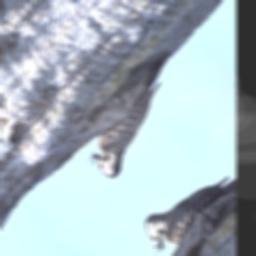Woodpecker: (68, 37, 199, 189)
